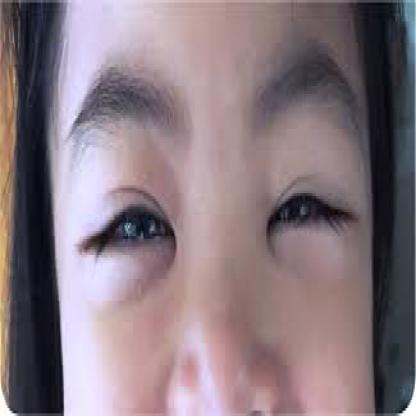puffyeye: (92, 233, 172, 292)
